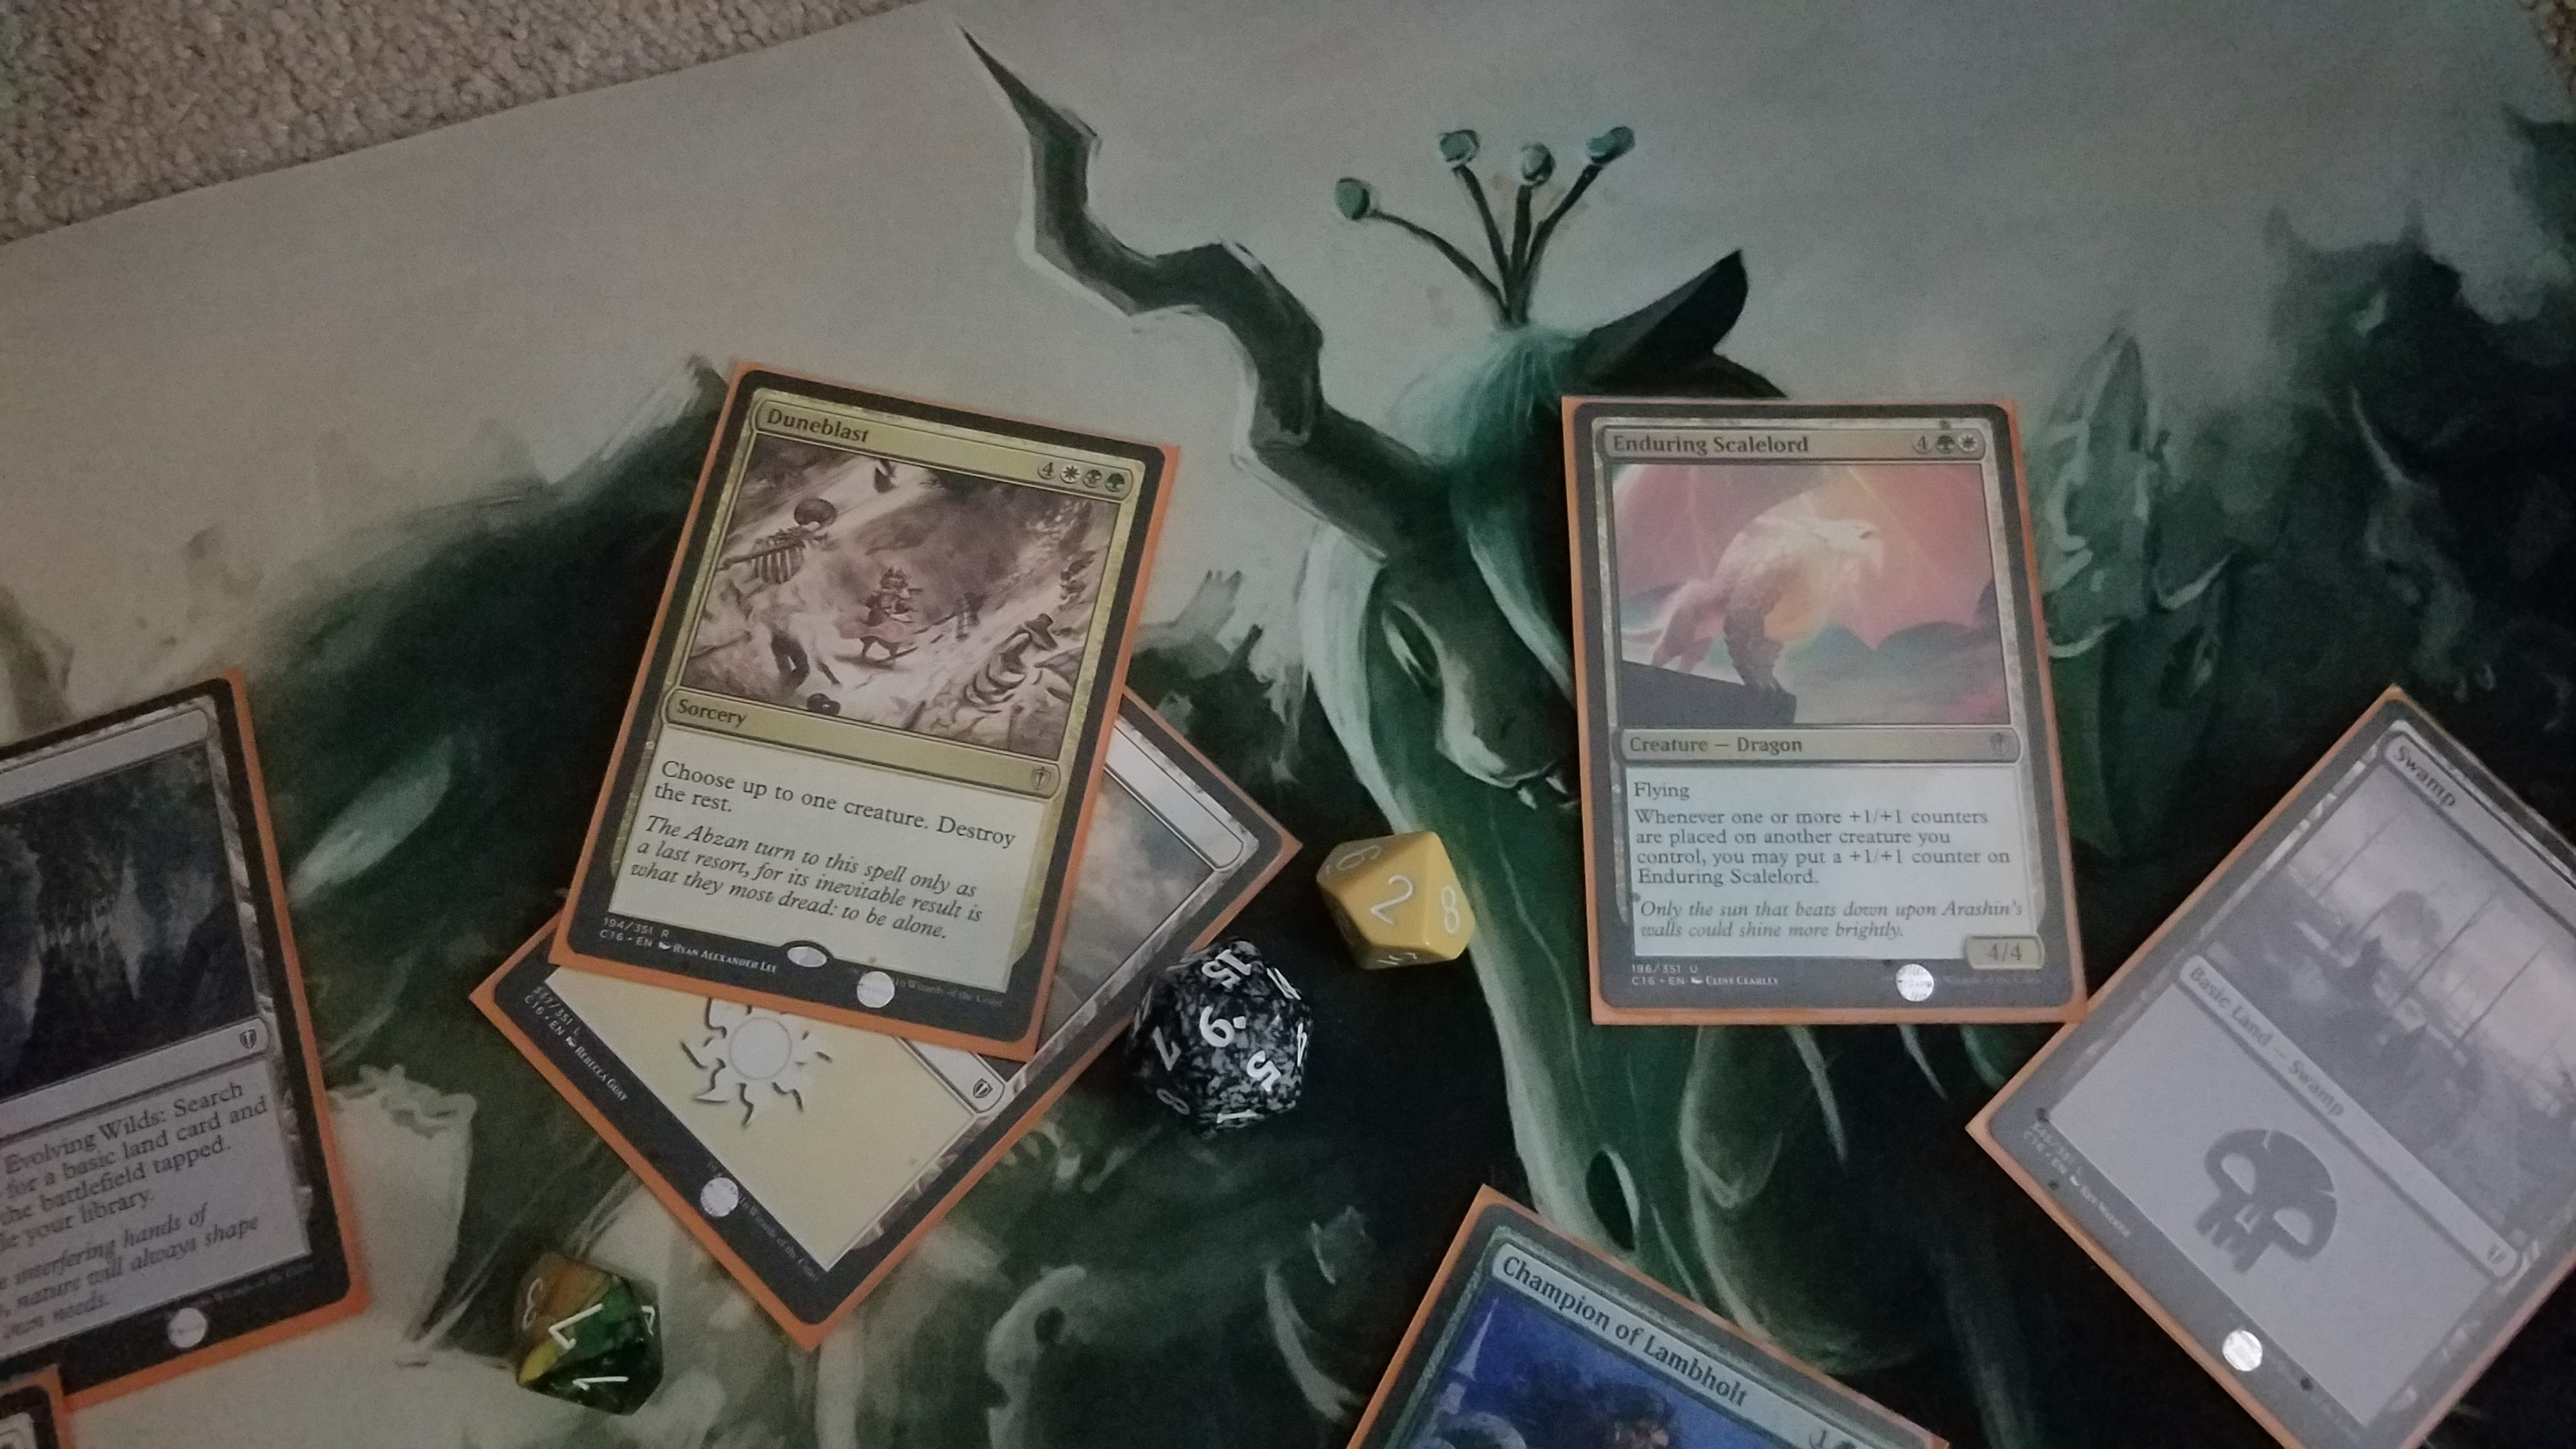Card: (1989, 685, 2574, 1449), (547, 363, 1173, 1053), (1548, 393, 2100, 1033), (1348, 1189, 1959, 1449)
